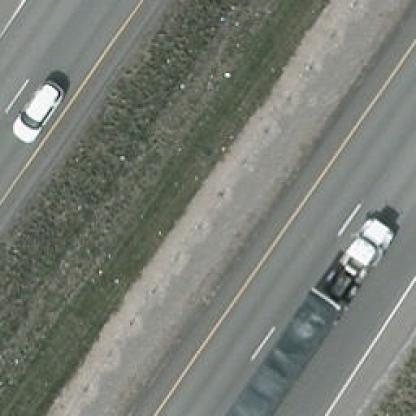car: (8, 78, 70, 143)
